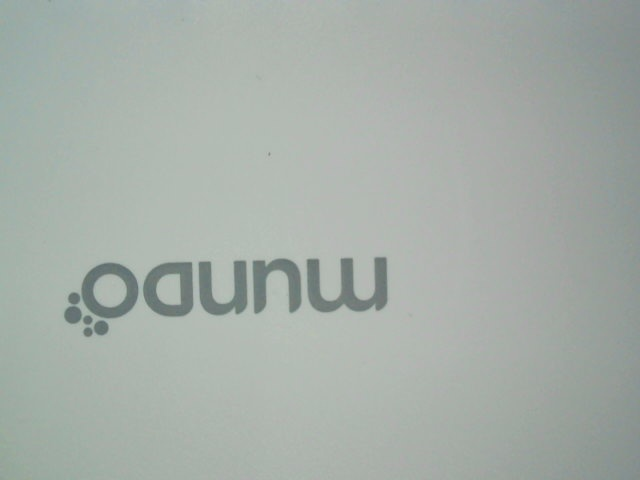BI_MUNDO: (51, 241, 396, 339)
